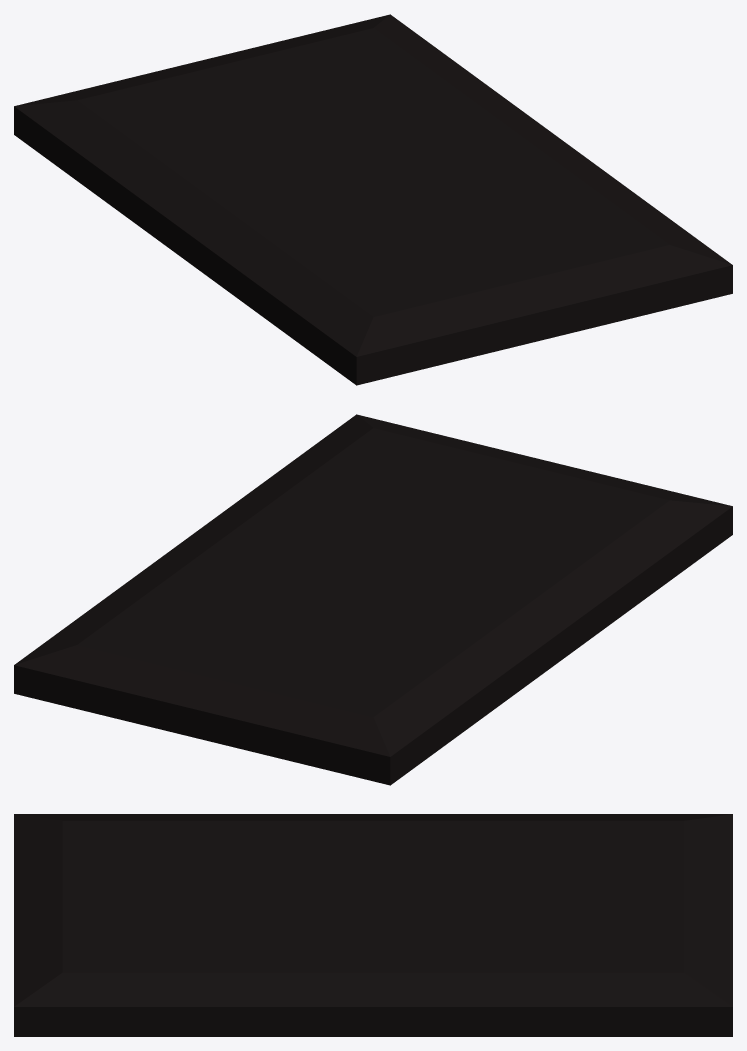
Rendered from sushiServingPlate02.fbx.
3 renders of one model, top to bottom at view 1: azimuth 30°, elevation 25°; view 2: azimuth 150°, elevation 25°; view 3: azimuth 270°, elevation 25°, orthographic. The views are drawn at different scales.
Visible parts, largest first — view 1: sushiServingPlate02; view 2: sushiServingPlate02; view 3: sushiServingPlate02.
Part boxes in pixels (x1,y1,x2,y2): sushiServingPlate02: [14, 14, 732, 385]; sushiServingPlate02: [14, 414, 732, 785]; sushiServingPlate02: [14, 814, 732, 1036].
Size of the model in its own units: 26.49 by 2.8 by 41.75.
Materials: 1 (1 with a texture image).
